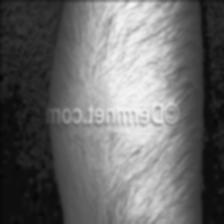Potentially Malignant Skin Tumors: (46, 128, 156, 148), (66, 91, 142, 103)
